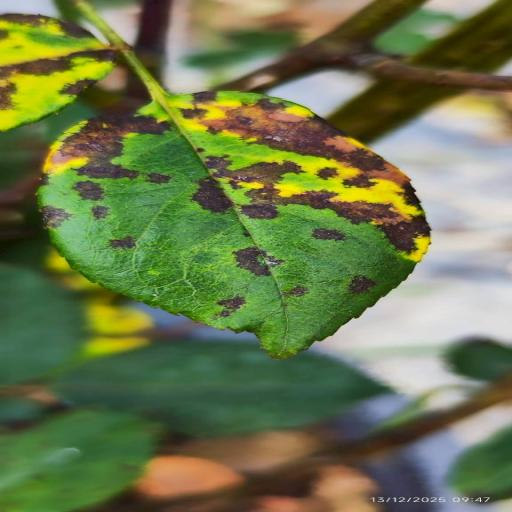black_spot: (39, 79, 428, 358)
